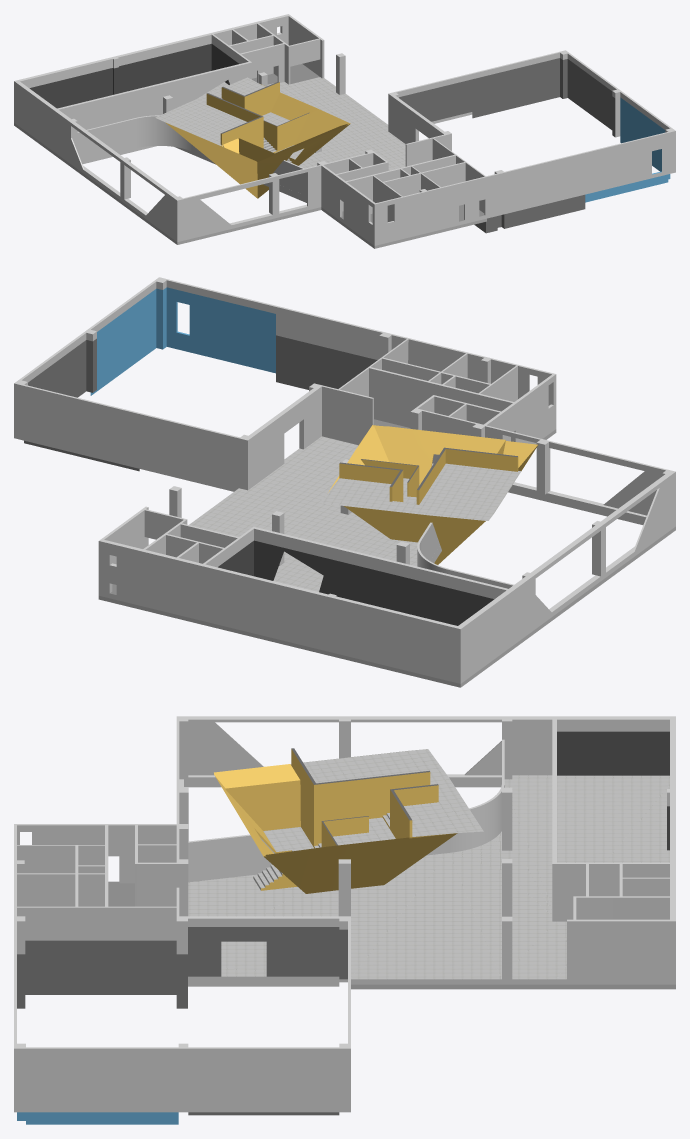
File: Build_F4.fbx
The picture shows the model from 3 angles, top to bottom: view 1: azimuth 30°, elevation 25°; view 2: azimuth 150°, elevation 25°; view 3: azimuth 270°, elevation 25°; orthographic projection. The views are drawn at different scales.
Parts seen in each view (by area): view 1: Floor_4_pillar, F4_Pyramid, F4_Floor05, F4_SideWall, Foor_4_floor_stick; view 2: Floor_4_pillar, F4_Pyramid, F4_Floor05, Foor_4_floor_stick, F4_SideWall; view 3: Floor_4_pillar, F4_Floor05, F4_Pyramid, F4_SideWall, Foor_4_floor_stick.
Part boxes in pixels (box(x1,y1,x2,y2)): Floor_4_pillar: box(14, 14, 675, 242); F4_Pyramid: box(155, 77, 350, 198); F4_Floor05: box(14, 64, 486, 245); F4_SideWall: box(77, 115, 306, 196); Foor_4_floor_stick: box(14, 123, 486, 248); Floor_4_pillar: box(14, 277, 675, 678); F4_Pyramid: box(319, 425, 538, 564); F4_Floor05: box(98, 419, 675, 683); Foor_4_floor_stick: box(98, 429, 675, 687); F4_SideWall: box(417, 522, 513, 588); Floor_4_pillar: box(14, 716, 675, 1124); F4_Floor05: box(108, 774, 675, 984); F4_Pyramid: box(214, 748, 483, 893); F4_SideWall: box(188, 739, 504, 882); Foor_4_floor_stick: box(184, 783, 675, 989).
Size of the model in its own units: 5319 by 1000 by 4480.
Materials: 9 (1 with a texture image).
